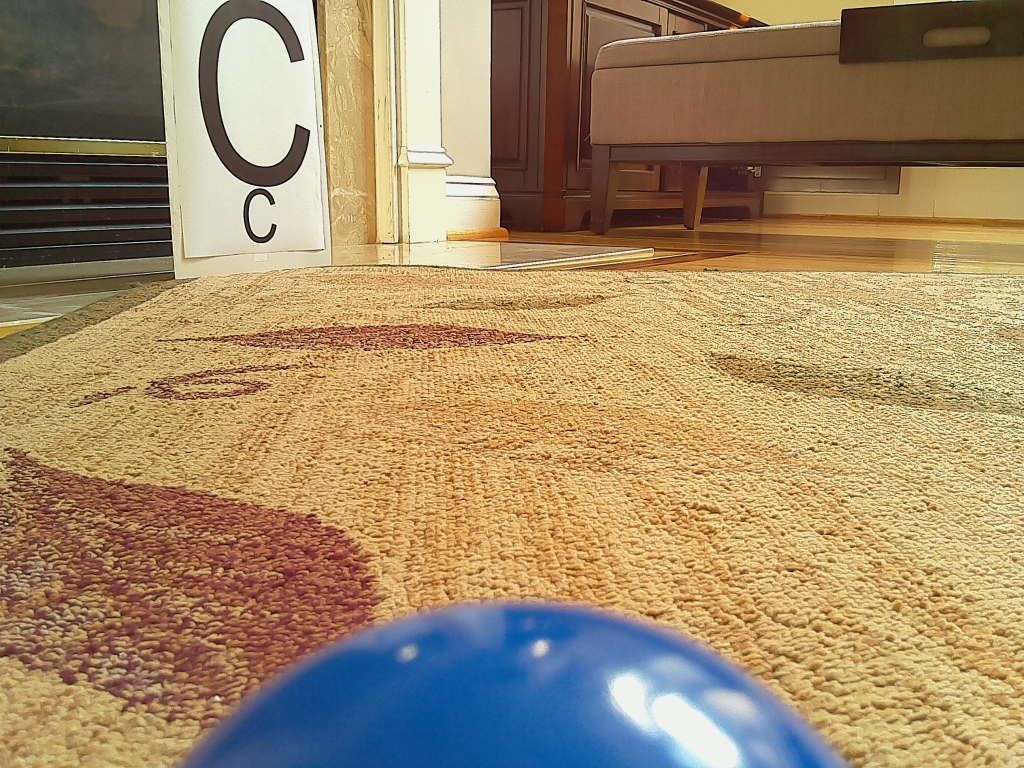letter: (200, 1, 312, 187)
